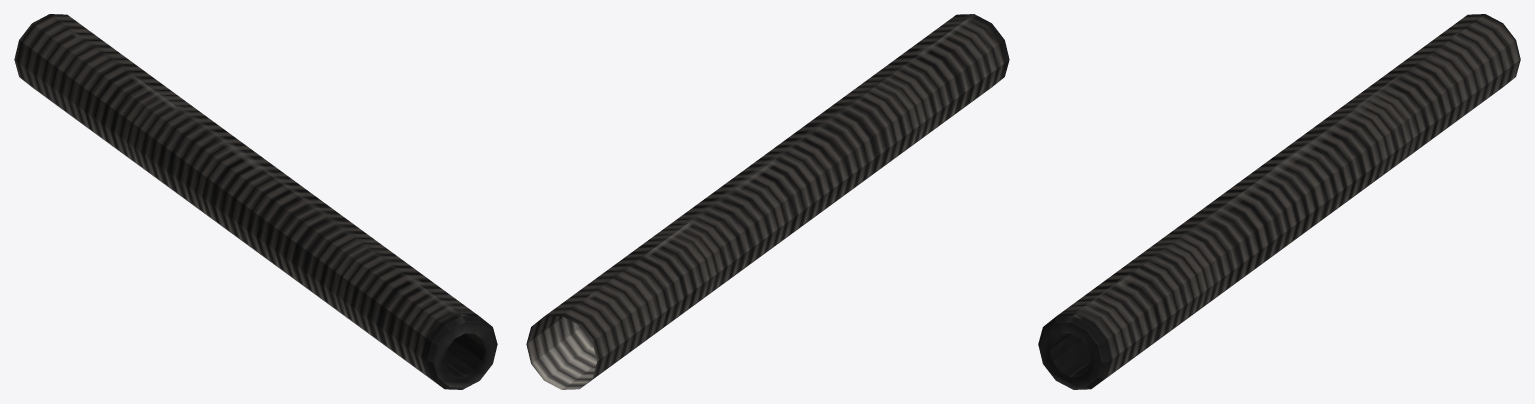
3 renders of one model, left to right at view 1: azimuth 30°, elevation 25°; view 2: azimuth 150°, elevation 25°; view 3: azimuth 330°, elevation 25°, orthographic.
Visible parts, largest first — view 1: TW_587e02ff24597743df3deaeb_PZ_Import; view 2: TW_587e02ff24597743df3deaeb_PZ_Import; view 3: TW_587e02ff24597743df3deaeb_PZ_Import.
Boxes of the visible parts, x1,y1,x2,y2 form: TW_587e02ff24597743df3deaeb_PZ_Import: [14, 14, 497, 389]; TW_587e02ff24597743df3deaeb_PZ_Import: [526, 14, 1009, 389]; TW_587e02ff24597743df3deaeb_PZ_Import: [1038, 14, 1520, 389].
Size of the model in its own units: 0.00733 by 0.0743 by 0.00733.
Materials: 1 (1 with a texture image).
